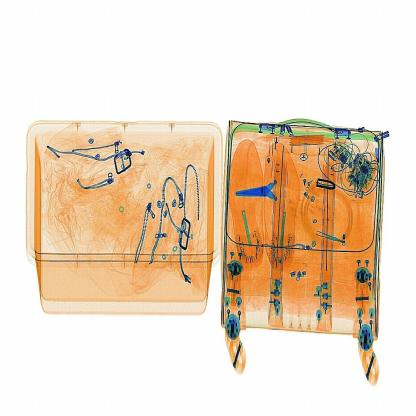gun: (227, 173, 290, 210)
